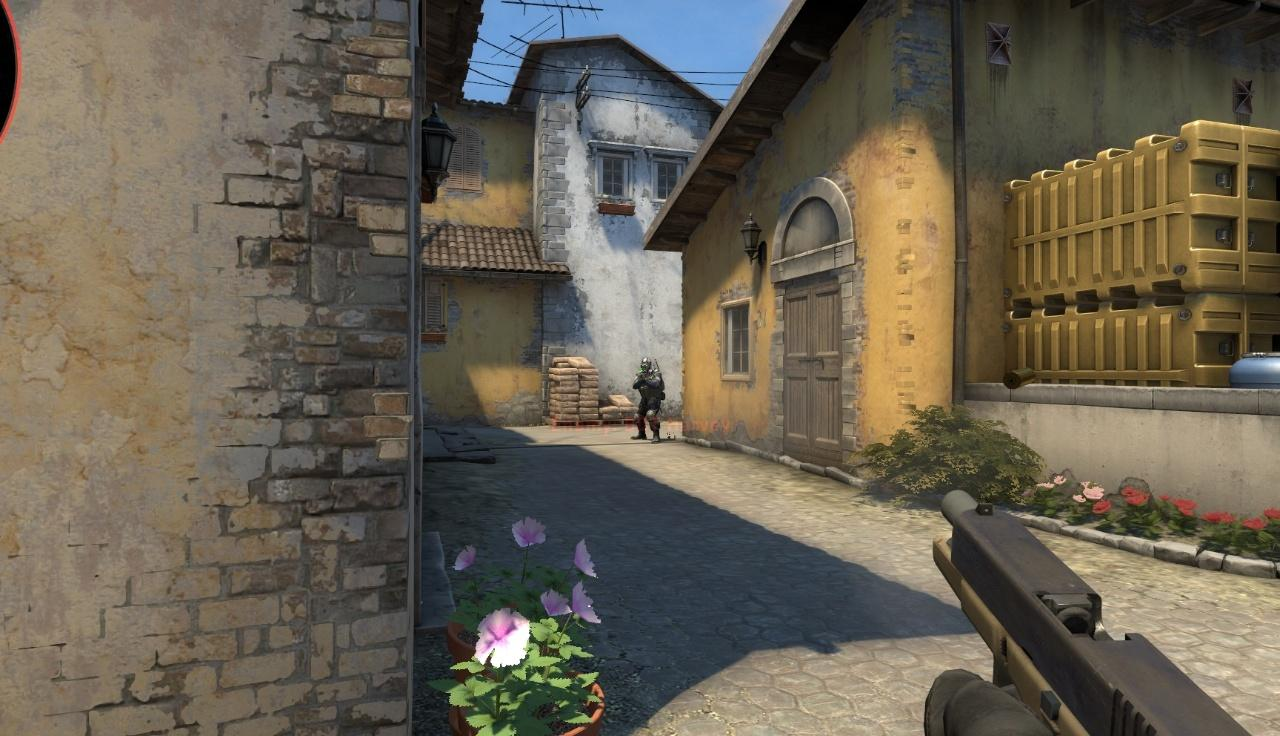ct: (633, 358, 662, 443)
cthead: (641, 358, 651, 374)
pistol: (930, 489, 1258, 736)
